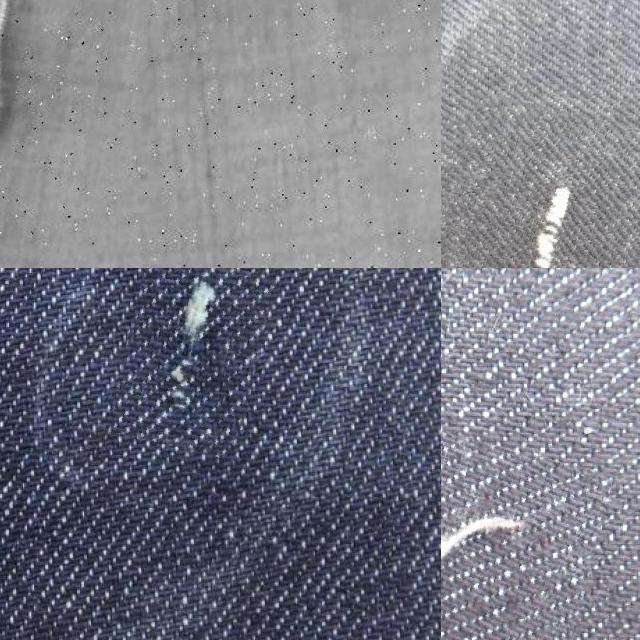Thread_other: (441, 387, 600, 640), (441, 101, 640, 268), (115, 268, 267, 455)
